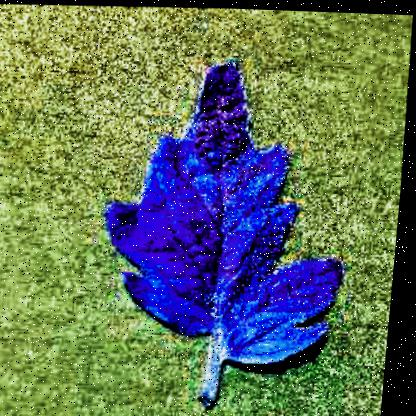Virus: (95, 48, 364, 415)
